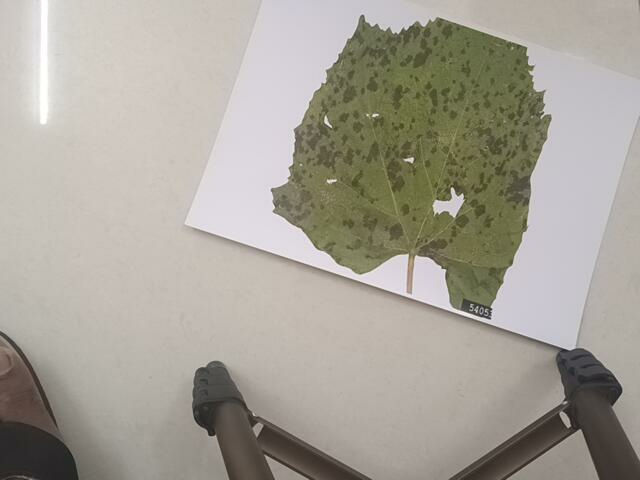Grape_Blight_Leaf: (273, 11, 570, 317)
